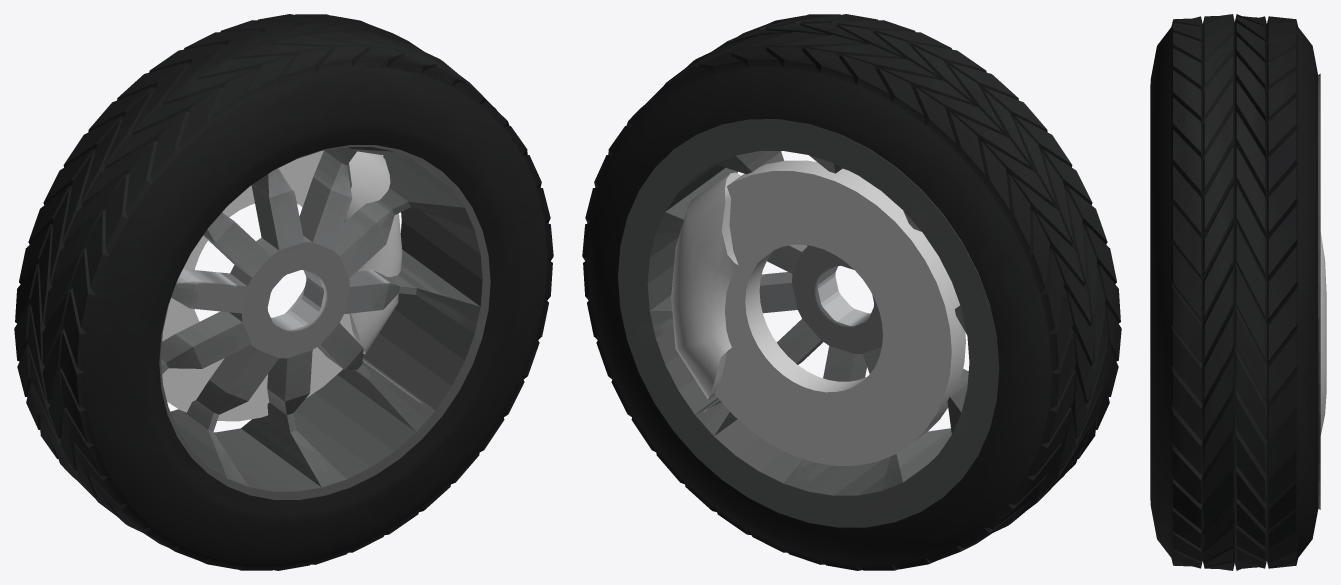
Rendered from Tire.fbx.
The picture shows the model from 3 angles, left to right: view 1: azimuth 30°, elevation 25°; view 2: azimuth 150°, elevation 25°; view 3: azimuth 270°, elevation 25°; orthographic projection.
Visible parts, largest first — view 1: Tire1, Rims, ClutchDisc, BrakepadFiction; view 2: Tire1, Rims, ClutchDisc, BrakepadFiction; view 3: Tire1, Rims, BrakepadFiction.
Boxes of the visible parts, bbox=[...] form: Tire1: bbox=[14, 14, 553, 570]; Rims: bbox=[159, 145, 490, 499]; ClutchDisc: bbox=[162, 150, 356, 421]; BrakepadFiction: bbox=[344, 151, 402, 353]; Tire1: bbox=[582, 14, 1121, 570]; Rims: bbox=[618, 119, 999, 527]; ClutchDisc: bbox=[714, 160, 965, 465]; BrakepadFiction: bbox=[671, 172, 740, 399]; Tire1: bbox=[1150, 14, 1318, 570]; Rims: bbox=[1318, 73, 1320, 509]; BrakepadFiction: bbox=[1320, 232, 1326, 435].
Bounding box in the file's own units: 70.87 × 70.87 × 22.45.
